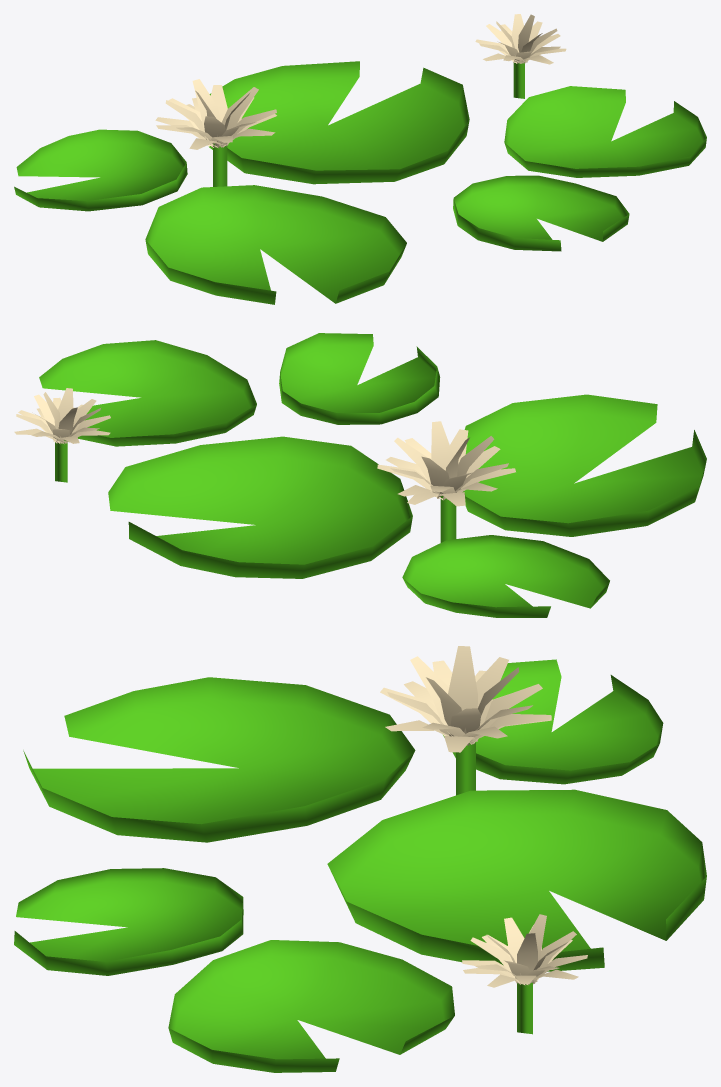
Rendered from Lily_Pad_Bunch_4.fbx.
The picture shows the model from 3 angles, top to bottom: view 1: azimuth 30°, elevation 25°; view 2: azimuth 150°, elevation 25°; view 3: azimuth 270°, elevation 25°; orthographic projection. The views are drawn at different scales.
Visible parts, largest first — view 1: Lily Pad Bunch 4; view 2: Lily Pad Bunch 4; view 3: Lily Pad Bunch 4.
Part boxes in pixels (<box>): Lily Pad Bunch 4: <box>14,14,706,304</box>; Lily Pad Bunch 4: <box>14,333,706,617</box>; Lily Pad Bunch 4: <box>14,646,706,1072</box>.
Size of the model in its own units: 224 by 39.14 by 164.
